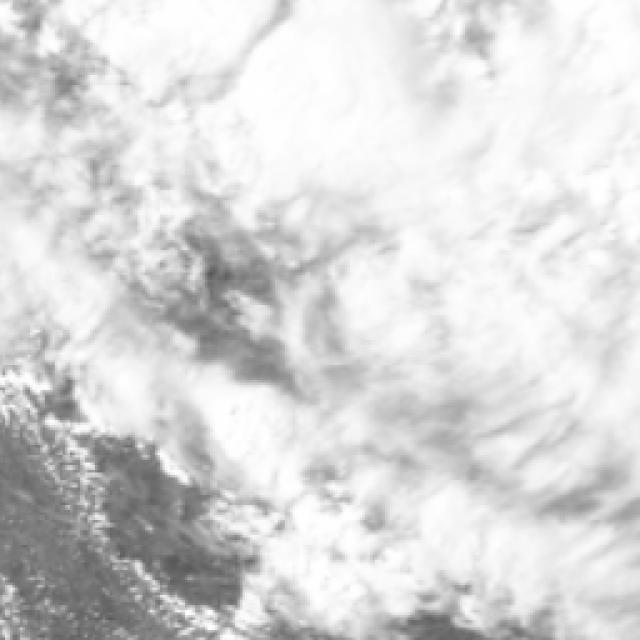CB: (248, 19, 411, 180)
